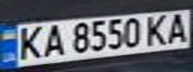0: (121, 16, 145, 48)
5: (87, 19, 109, 53), (106, 16, 127, 51)
8: (66, 20, 90, 54)
A: (163, 10, 193, 44), (39, 23, 69, 57)
K: (12, 24, 48, 61), (142, 11, 172, 46)
